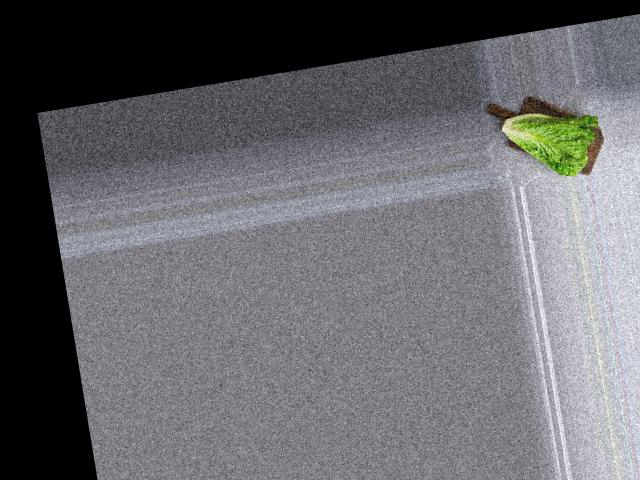lettuce: (494, 92, 605, 186)
